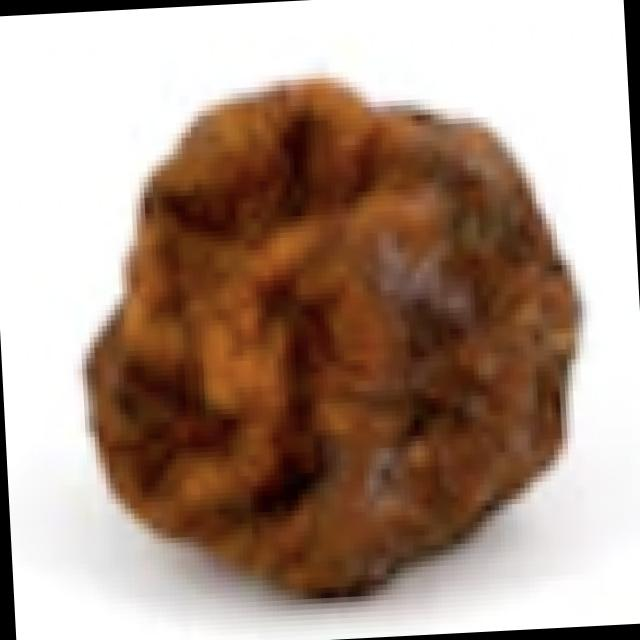rotten-orange: (70, 44, 598, 598)
